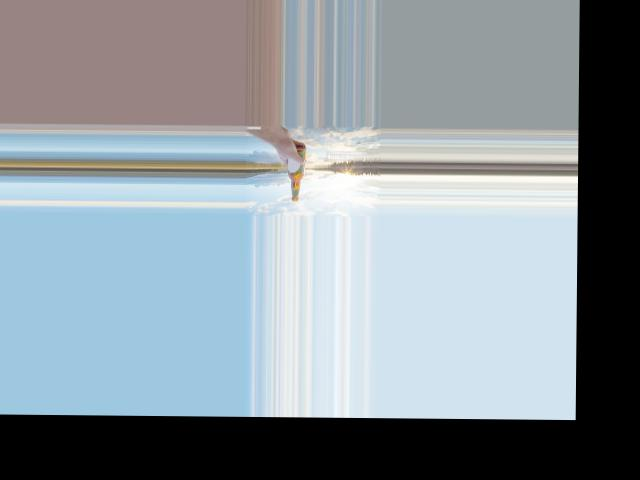beer: (287, 145, 307, 201)
